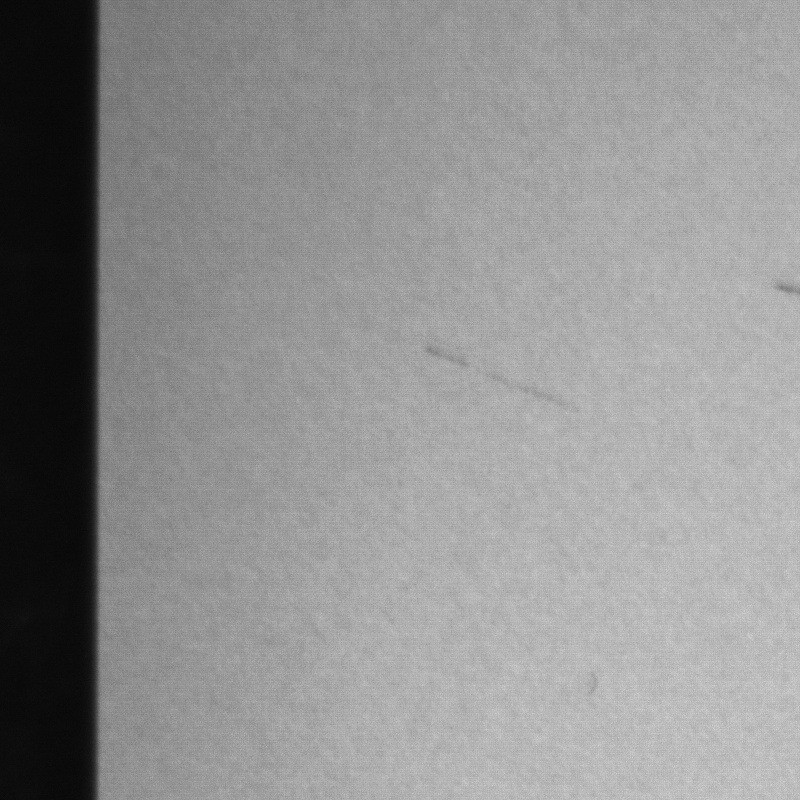defect: (422, 334, 604, 444), (575, 665, 607, 710), (769, 259, 800, 304)
